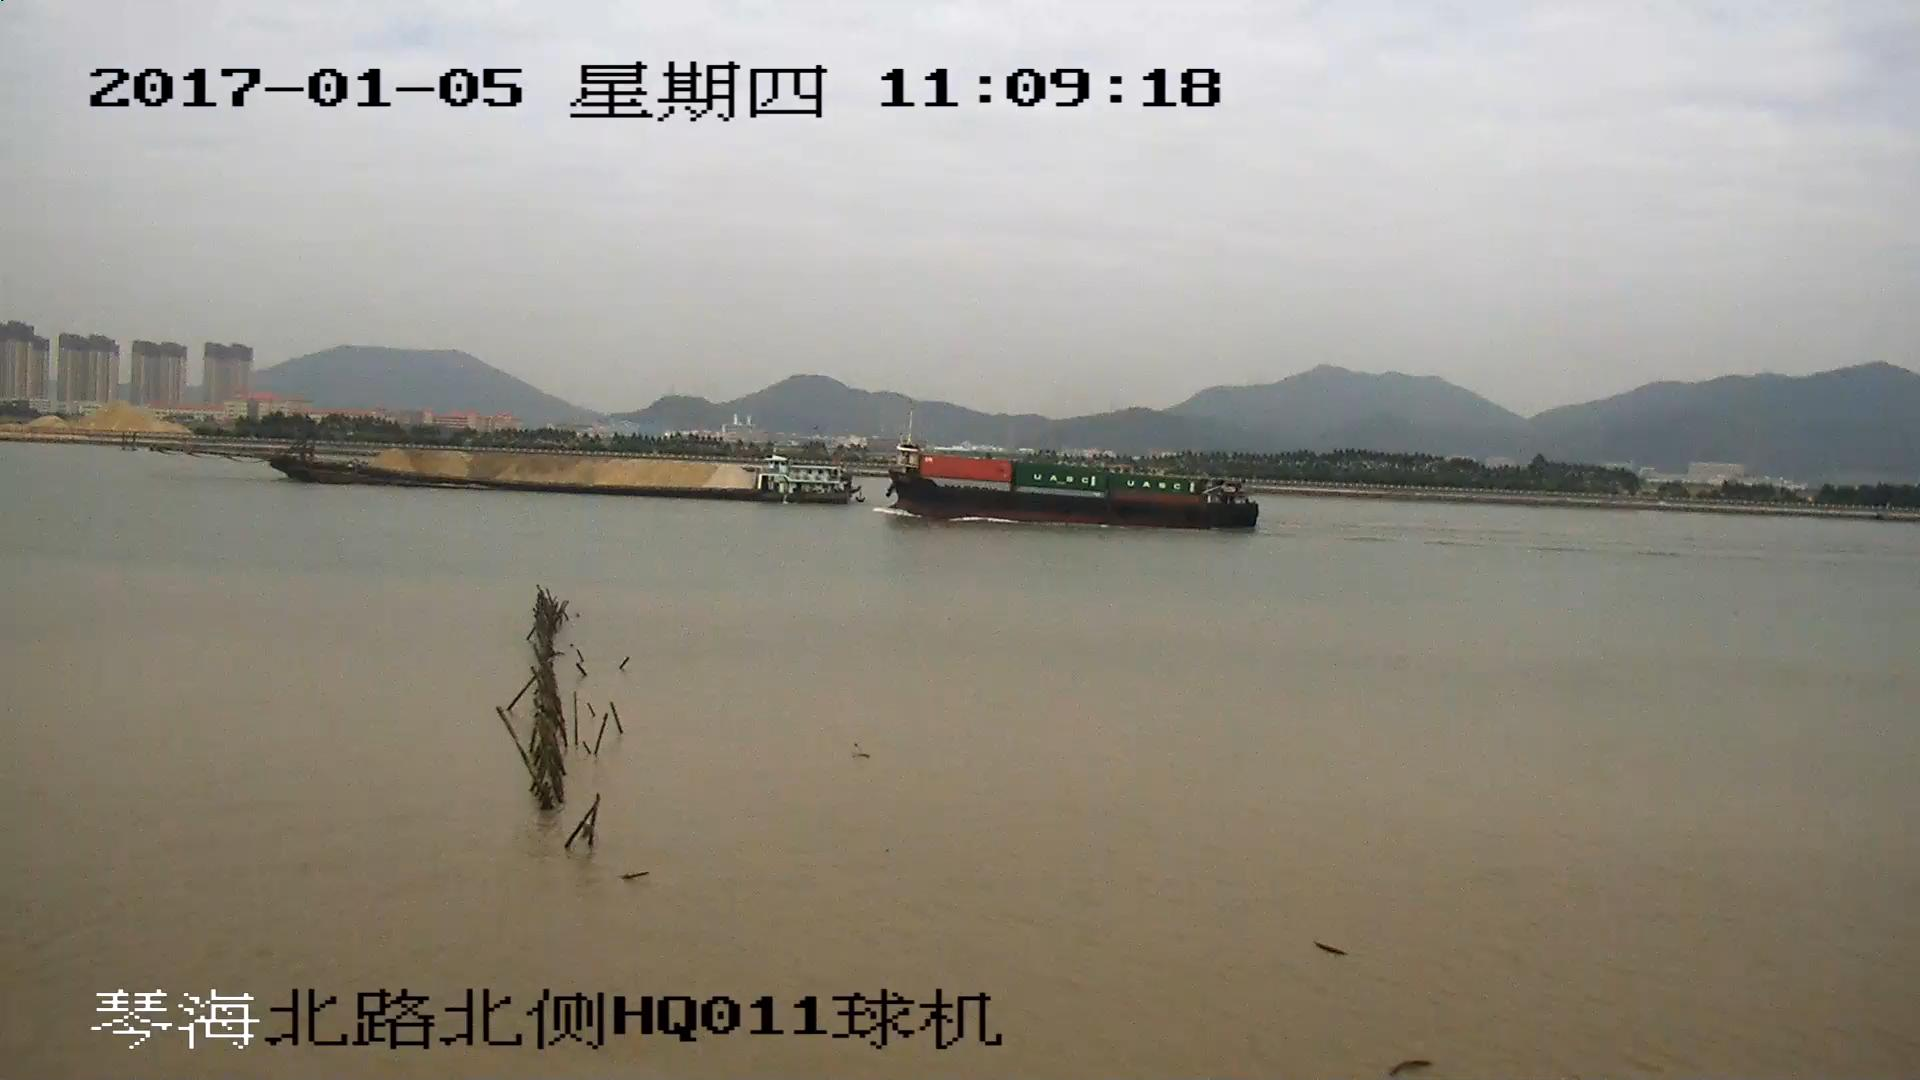container ship: (887, 440, 1261, 529)
ore carrier: (167, 421, 864, 508)
